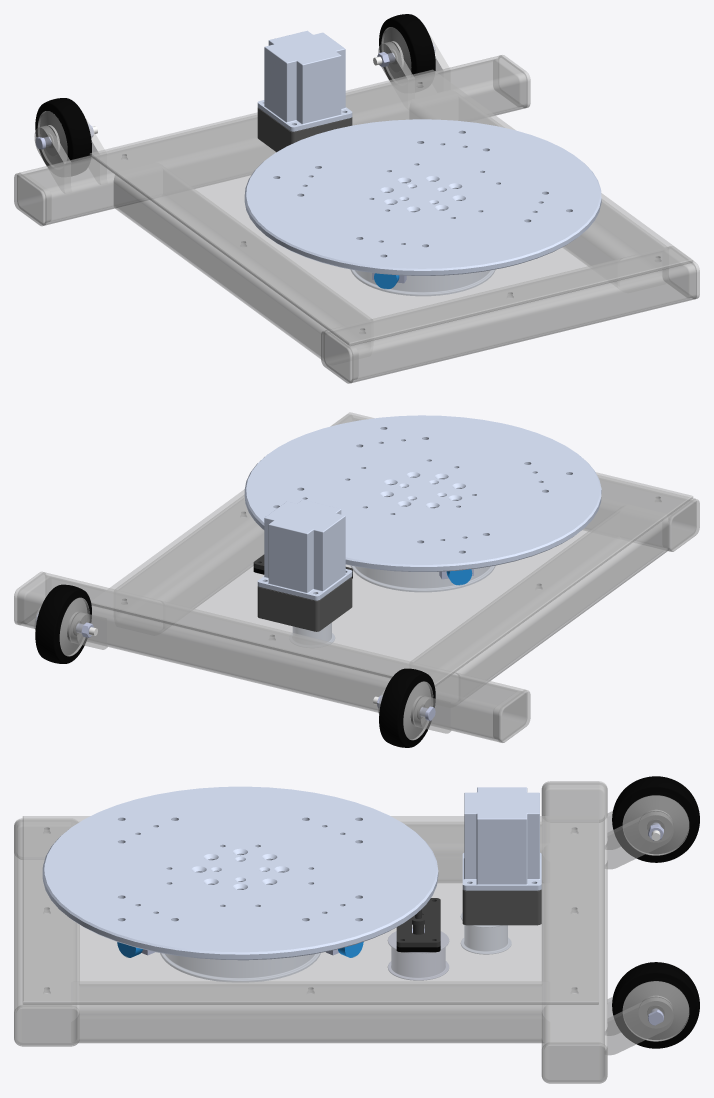
The model's file is v7_fab_assem_base_rotating.glb.
3 renders of one model, top to bottom at view 1: azimuth 30°, elevation 25°; view 2: azimuth 150°, elevation 25°; view 3: azimuth 270°, elevation 25°, orthographic. The views are drawn at different scales.
Parts seen in each view (by area): view 1: weld_base feet-1, fab_circular top-1, weld_base plate-1, 4IK25GN-S-1, RMNA100_wheel100-1 (×2), RMNA100_wheel75-1 (×2), large pulley-1, 4GN25K-1, end cap-3, end cap-1, end cap-4, end cap-2 (+2 smaller); view 2: weld_base feet-1, weld_base plate-1, fab_circular top-1, 4IK25GN-S-1, RMNA100_wheel100-1 (×2), 4GN25K-1, RMNA100_wheel75-1 (×2), large pulley-1, end cap-3, end cap-1, end cap-4, wheel bracket-1 (+1 smaller); view 3: weld_base feet-1, fab_circular top-1, weld_base plate-1, 4IK25GN-S-1, RMNA100_wheel100-1 (×2), RMNA100_wheel75-1 (×2), 4GN25K-1, large pulley-1, end cap-1, end cap-2, end cap-3, wheel bracket-4 (+4 smaller).
Boxes of the visible parts, x1,y1,x2,y2 form: weld_base feet-1: (17,55,696,382); fab_circular top-1: (244,119,601,275); weld_base plate-1: (89,69,693,345); 4IK25GN-S-1: (257,30,352,131); RMNA100_wheel100-1 (×2): (35,14,435,175); RMNA100_wheel75-1 (×2): (37,27,411,166); large pulley-1: (350,269,495,295); 4GN25K-1: (257,107,352,152); end cap-3: (14,173,51,226); end cap-1: (493,55,530,107); end cap-4: (321,330,358,383); end cap-2: (662,246,699,298); weld_base feet-1: (17,415,696,742); weld_base plate-1: (91,412,693,686); fab_circular top-1: (244,415,601,571); 4IK25GN-S-1: (257,499,352,600); RMNA100_wheel100-1 (×2): (35,584,435,747); 4GN25K-1: (257,576,352,631); RMNA100_wheel75-1 (×2): (59,597,433,740); large pulley-1: (351,566,495,591); end cap-3: (493,689,530,742); end cap-1: (14,571,51,624); end cap-4: (667,498,699,551); wheel bracket-1: (414,696,451,733); weld_base feet-1: (14,782,607,1081); fab_circular top-1: (42,786,438,960); weld_base plate-1: (22,816,598,1004); 4IK25GN-S-1: (462,787,541,890); RMNA100_wheel100-1 (×2): (612,776,699,1048); RMNA100_wheel75-1 (×2): (622,795,689,1041); 4GN25K-1: (462,889,541,925); large pulley-1: (160,953,320,981); end cap-1: (541,1042,607,1083); end cap-2: (14,1005,79,1046); end cap-3: (541,781,607,822); wheel bracket-4: (607,997,673,1055).
Bounding box in the file's own units: 0.71 × 0.1875 × 0.78.
